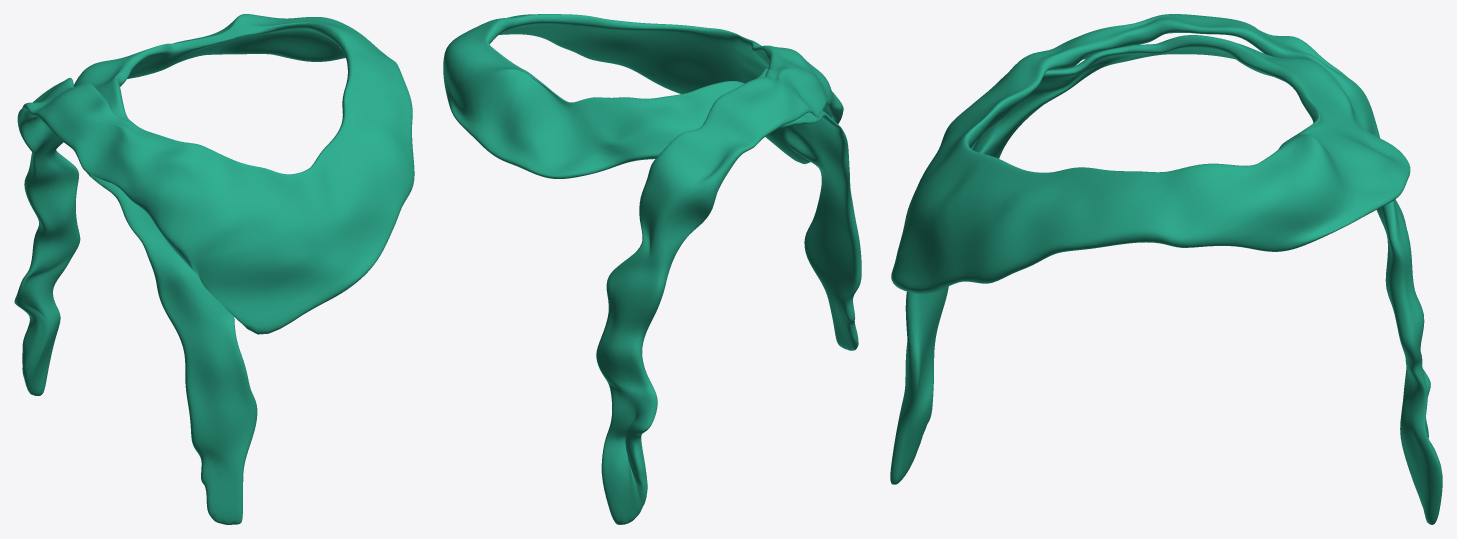
The model's file is Scarf.gltf.
3 renders of one model, left to right at view 1: azimuth 30°, elevation 25°; view 2: azimuth 150°, elevation 25°; view 3: azimuth 270°, elevation 25°, orthographic. The views are drawn at different scales.
Parts seen in each view (by area): view 1: scarf1; view 2: scarf1; view 3: scarf1.
Boxes of the visible parts, x1=… form: scarf1: x1=14, y1=14, x2=414, y2=524; scarf1: x1=443, y1=14, x2=861, y2=524; scarf1: x1=890, y1=14, x2=1442, y2=524.
Size of the model in its own units: 5.12 by 5.59 by 5.71.
